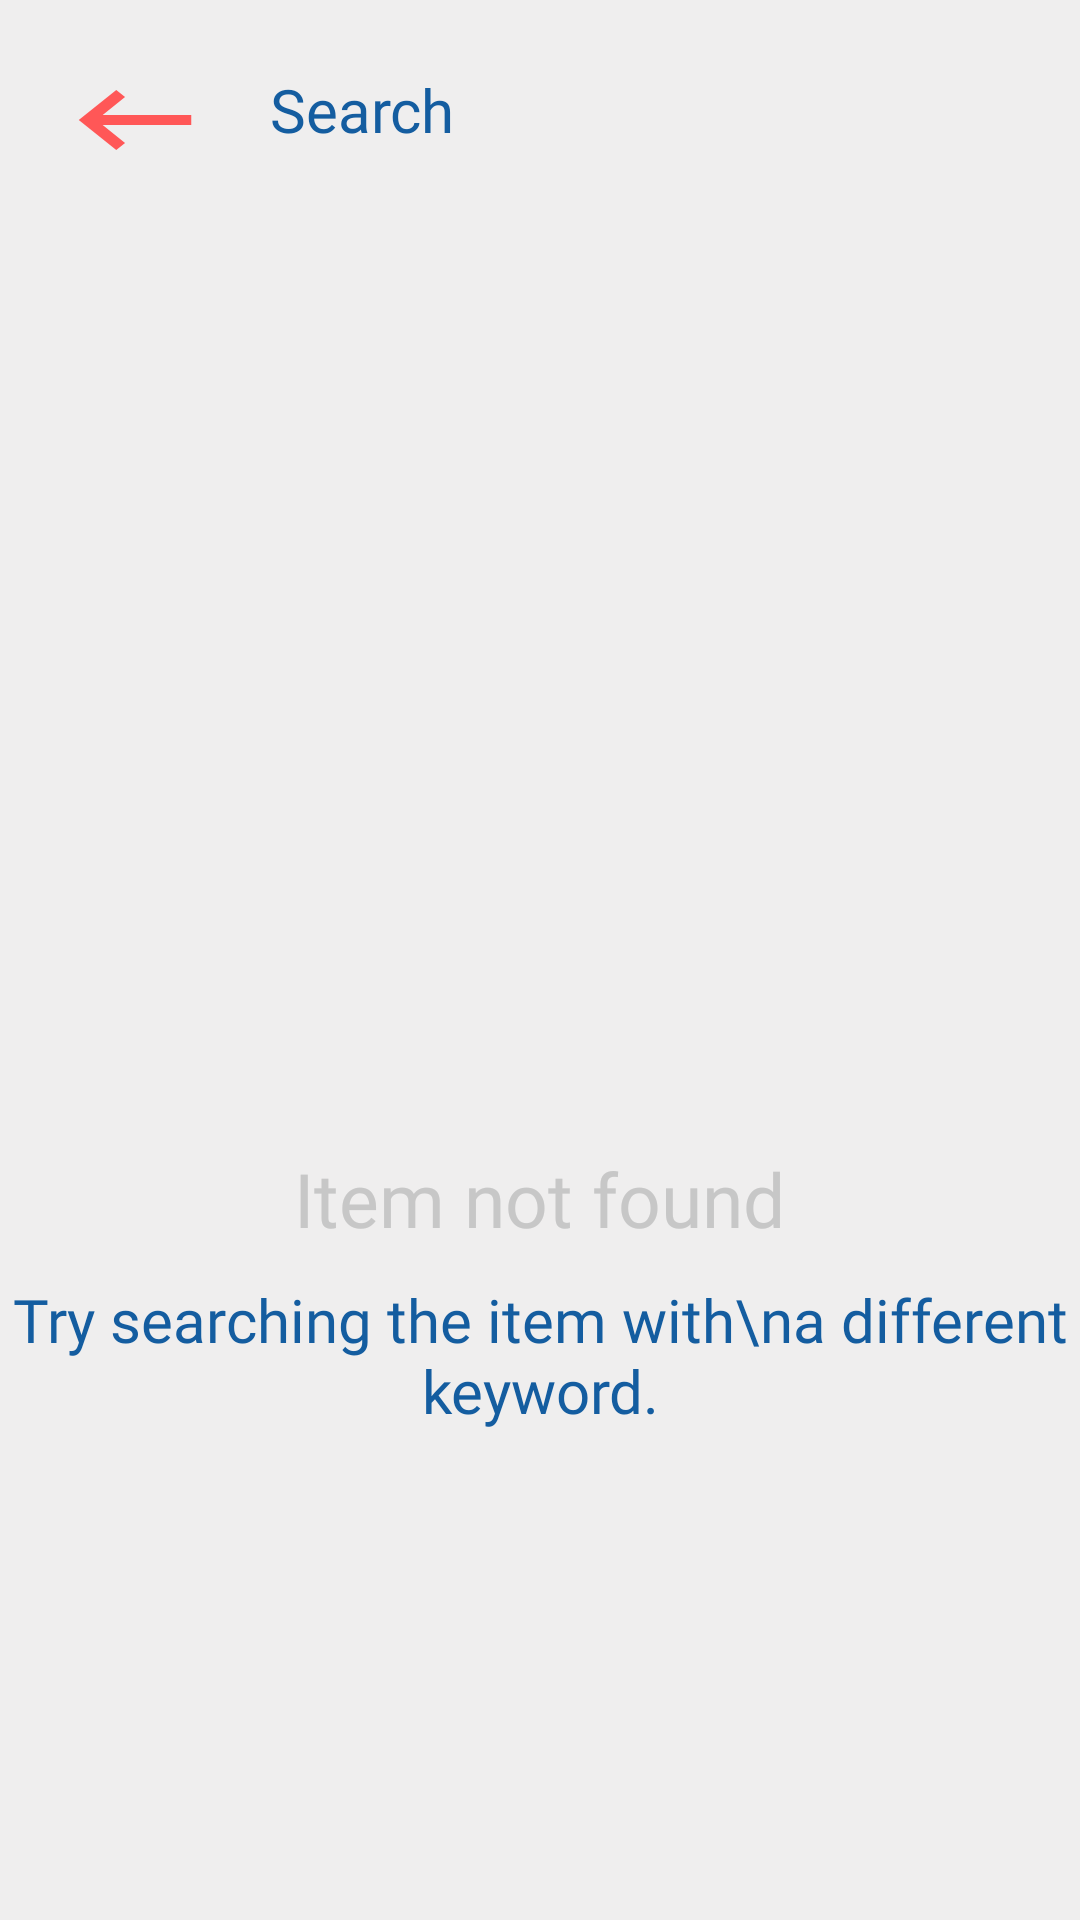

Where to tap for icons on this 1080*1920 app screen, as point (x, y):
back: point (135, 120)
